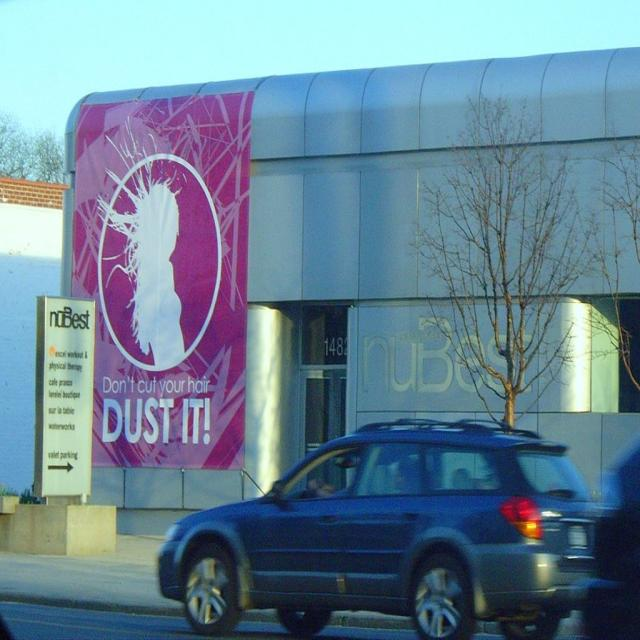car: (156, 415, 598, 637)
